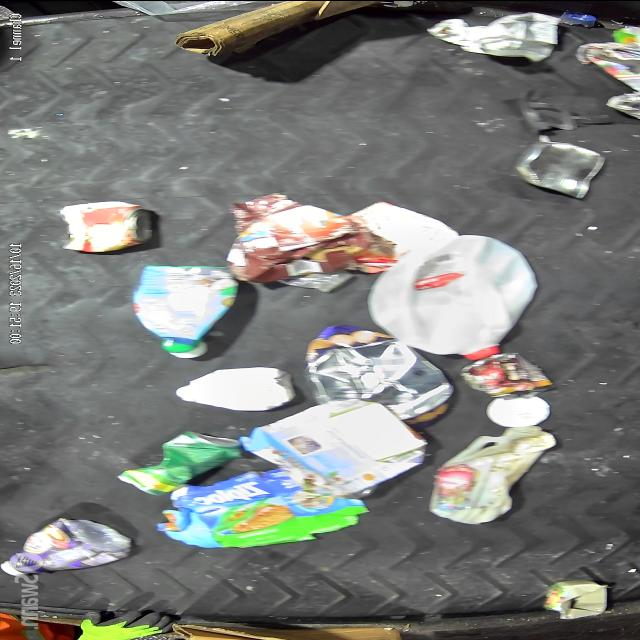can: (112, 427, 246, 495), (513, 136, 605, 198), (62, 199, 154, 255), (454, 350, 552, 402)
milk_jug: (363, 234, 539, 358)
non_white_jug: (422, 426, 560, 525), (135, 264, 245, 354), (1, 518, 126, 576)
